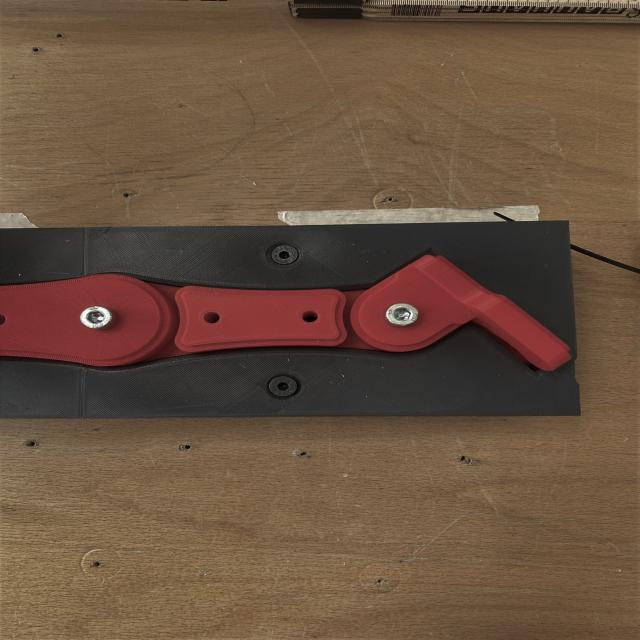HexScrew: (267, 374, 300, 398), (386, 303, 419, 326), (80, 306, 112, 329), (269, 245, 300, 265)
